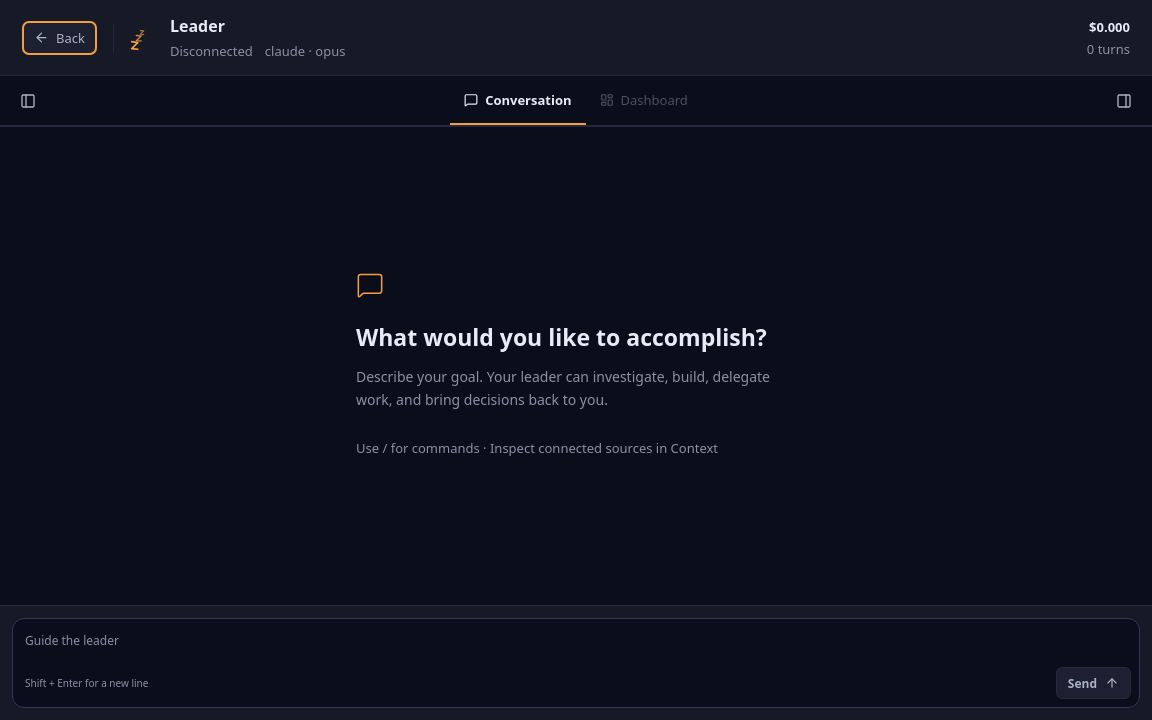
Fullscreen leader capabilities › shows connected source content and supports keyboard tab navigation
Click the button named "Toggle context panel" at (1124, 100), box [1108,84,1140,118]
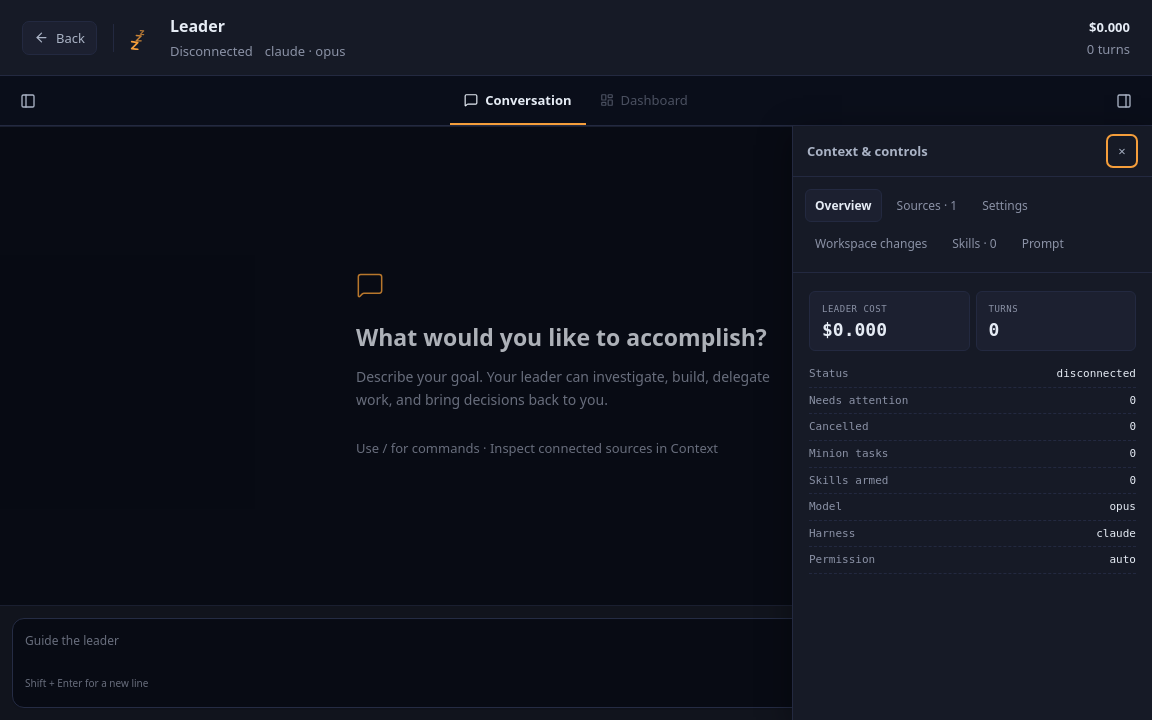
Press ArrowRight in the tab "Overview", box [805,189,882,222]
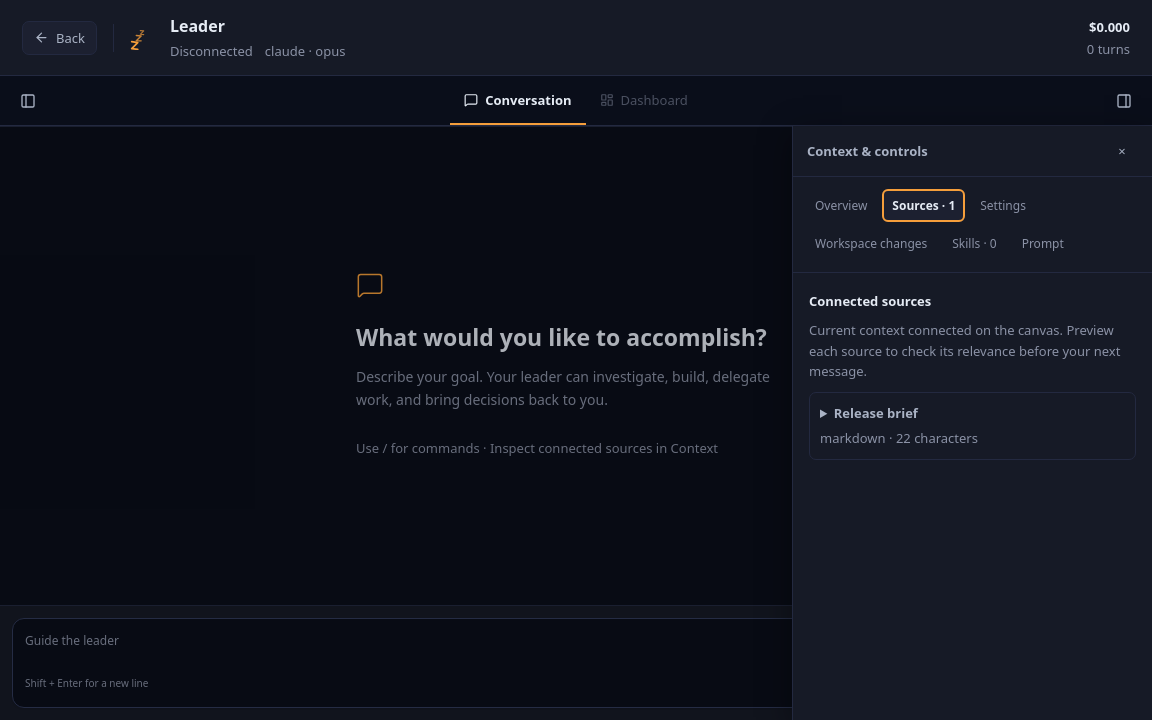
Result: the text "Release brief" is shown at [834,404,918,422]
